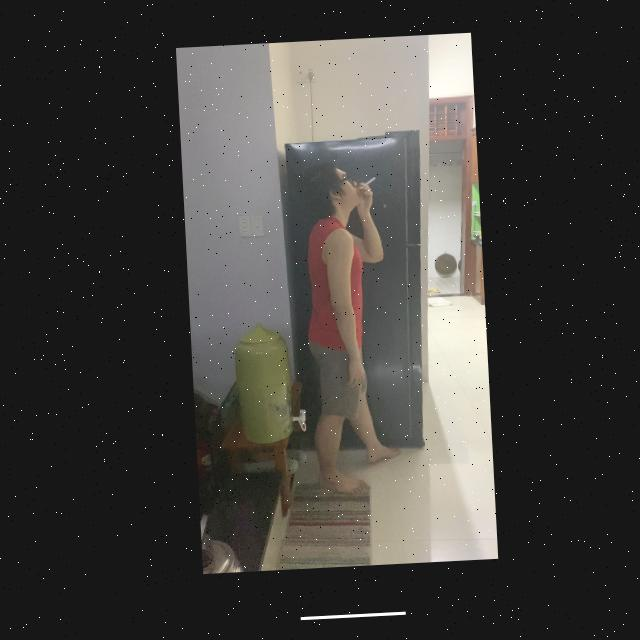cigarette: (357, 180, 373, 193)
